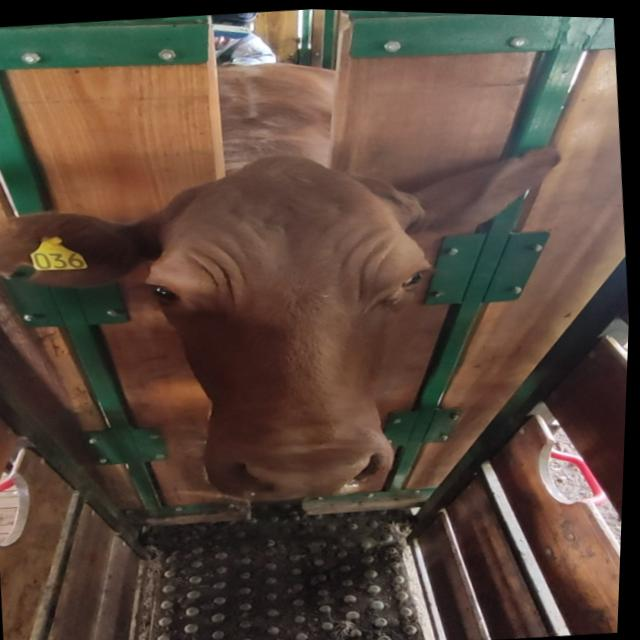cowFace: (126, 139, 453, 514)
